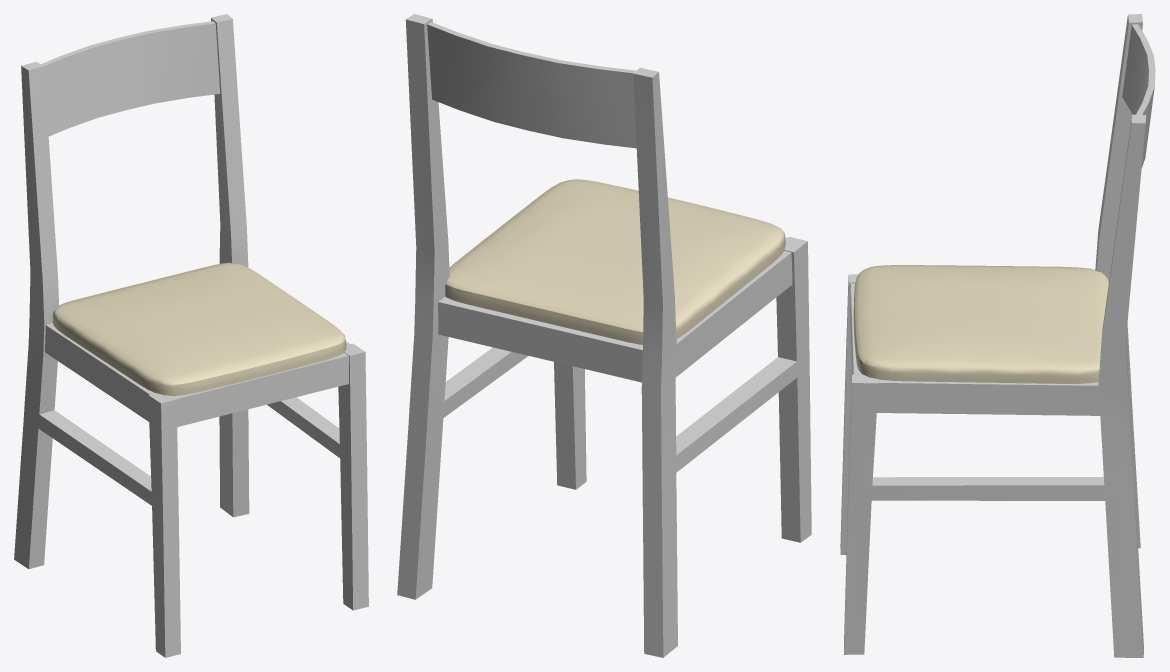
The model's file is sh_scopia_chair.glb.
3 views of the same model, side by side, from view 1: azimuth 30°, elevation 25°; view 2: azimuth 150°, elevation 25°; view 3: azimuth 270°, elevation 25° (orthographic). The views are drawn at different scales.
Bounding box in the file's own units: 0.42 × 0.88 × 0.474.
